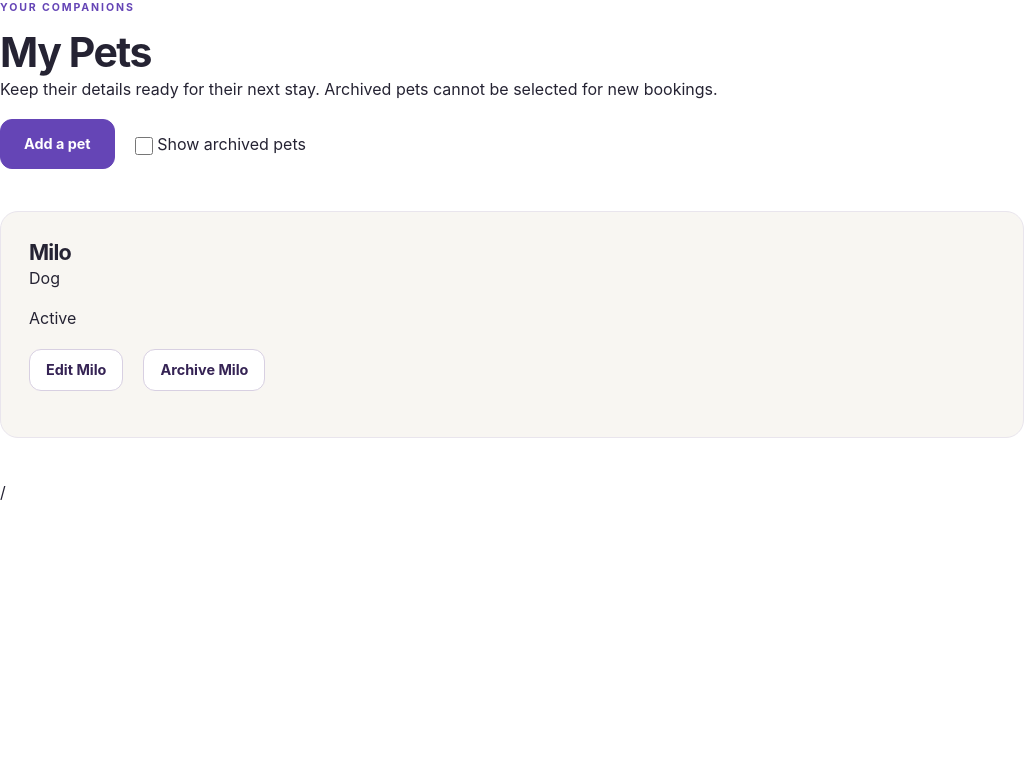
saves edits and refetches the current pet list
Click the button "Edit Milo".
click(76, 370)  # box x1=29 y1=349 x2=123 y2=391
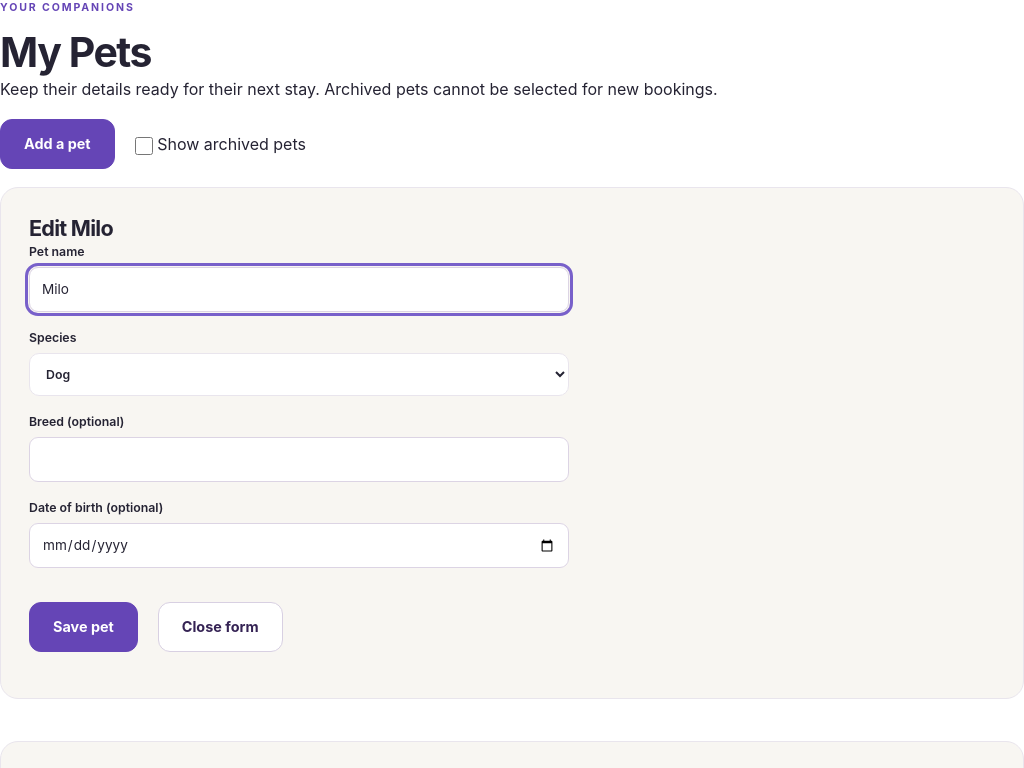
Replace the text in the field labelled "Pet name" with "Milo Junior" at (299, 289), box x1=29 y1=267 x2=569 y2=312
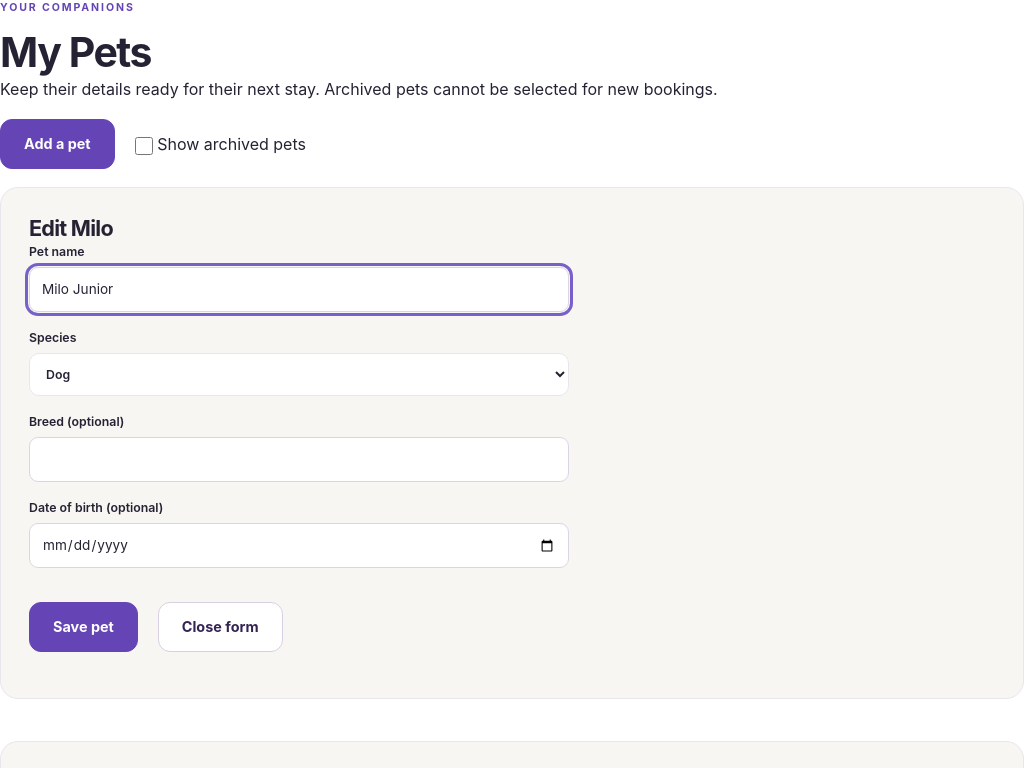
Click the button "Save pet".
click(83, 627)  # box x1=29 y1=602 x2=138 y2=652
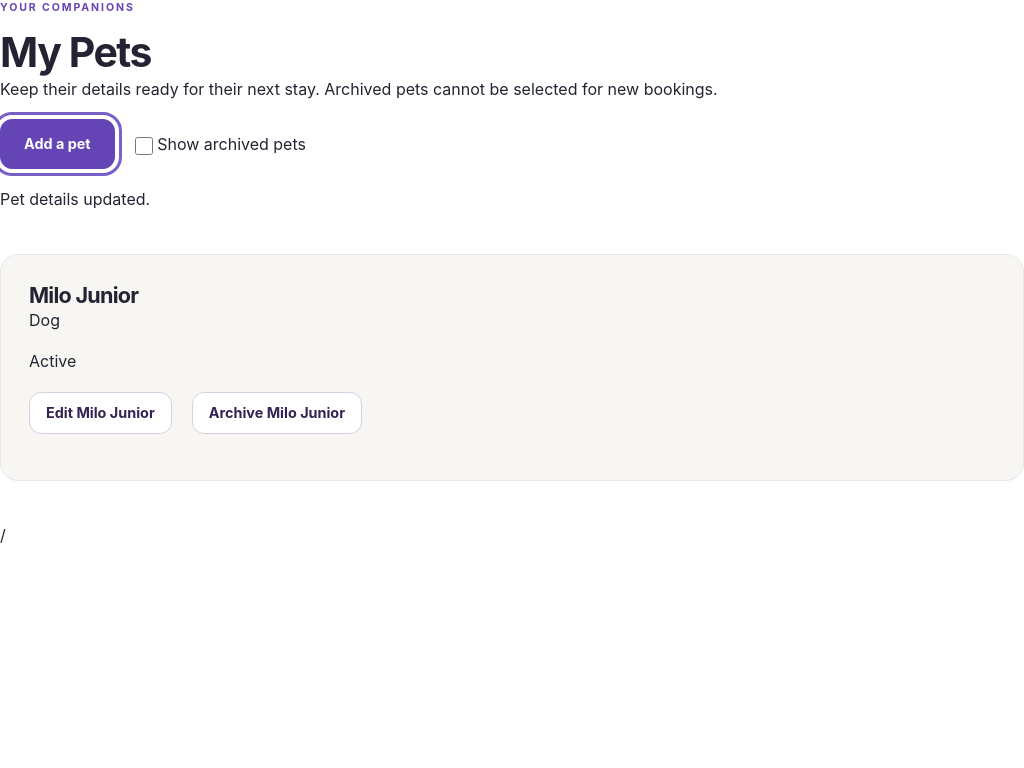
Now the heading "Milo Junior" is shown, box x1=29 y1=282 x2=138 y2=308
Now the label labelled "Pet name" is gone
